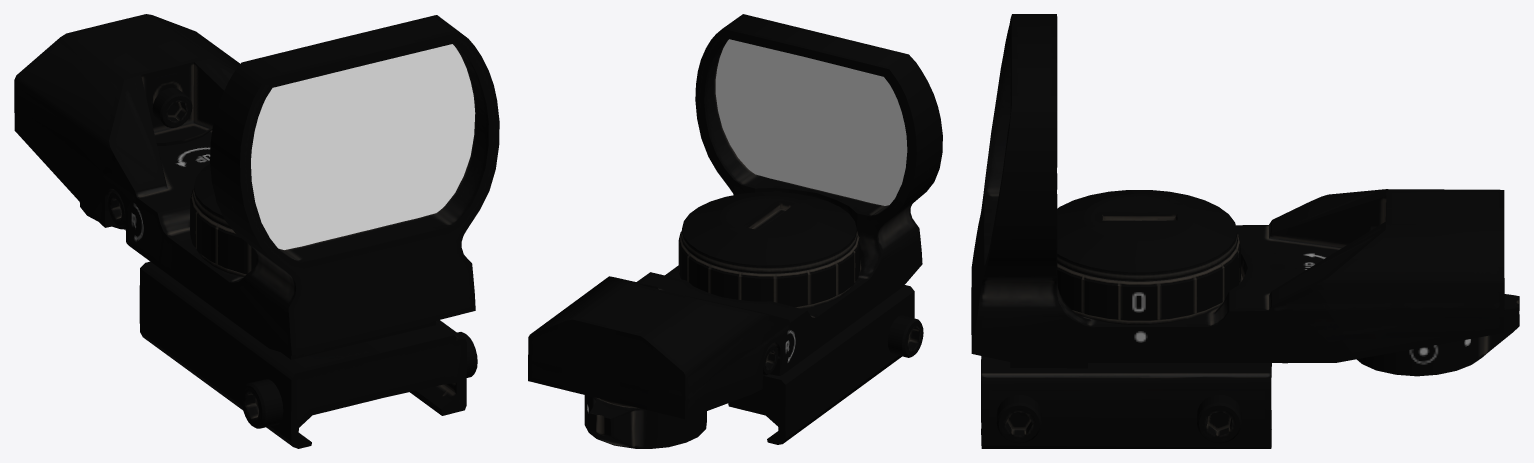
The model's file is Red Dot Sight.fbx.
The picture shows the model from 3 angles, left to right: view 1: azimuth 30°, elevation 25°; view 2: azimuth 150°, elevation 25°; view 3: azimuth 270°, elevation 25°; orthographic projection. The views are drawn at different scales.
Visible parts, largest first — view 1: Body, Back; view 2: Body, Front; view 3: Body.
Part boxes in pixels (bbox=[...]): Body: bbox=[14, 14, 499, 448]; Back: bbox=[251, 44, 475, 249]; Body: bbox=[528, 14, 942, 448]; Front: bbox=[715, 39, 907, 205]; Body: bbox=[971, 14, 1519, 448].
Size of the model in its own units: 3.79 by 5.1 by 7.24.
